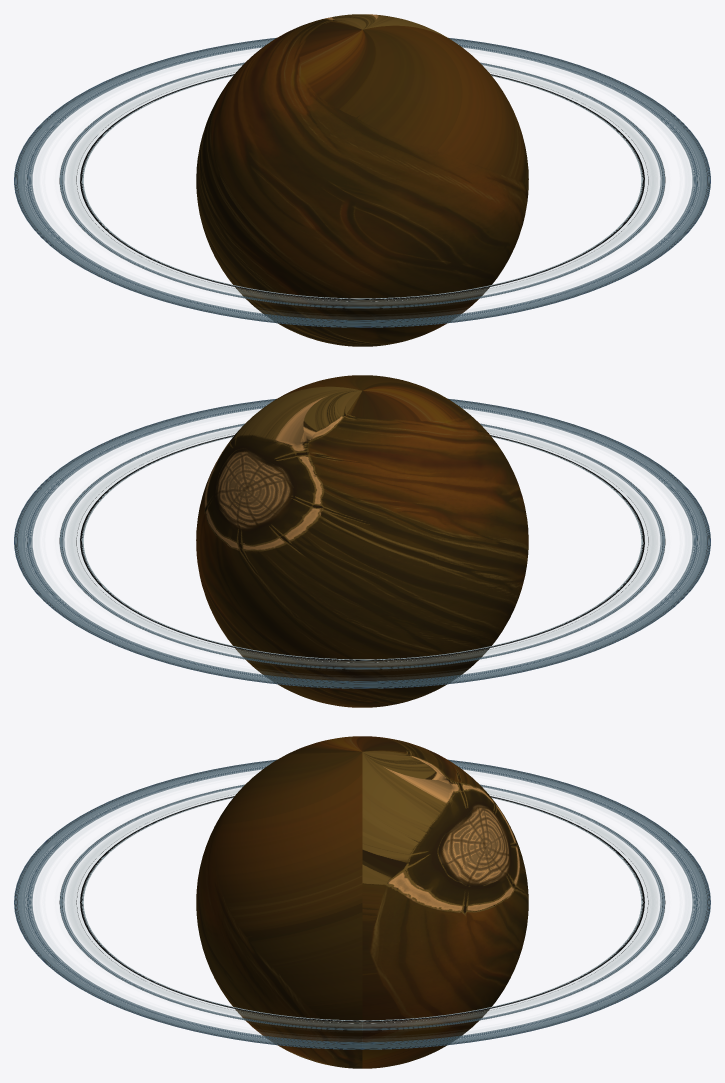
The picture shows the model from 3 angles, top to bottom: view 1: azimuth 30°, elevation 25°; view 2: azimuth 150°, elevation 25°; view 3: azimuth 270°, elevation 25°; orthographic projection.
Visible parts, largest first — view 1: Esfera, Plano; view 2: Esfera, Plano; view 3: Esfera, Plano.
Boxes of the visible parts, x1,y1,x2,y2 form: Esfera: [196, 14, 528, 346]; Plano: [14, 37, 710, 327]; Esfera: [196, 375, 528, 707]; Plano: [14, 398, 710, 688]; Esfera: [196, 736, 528, 1068]; Plano: [14, 759, 710, 1049].
Bounding box in the file's own units: 4191 × 2000 × 4191.
